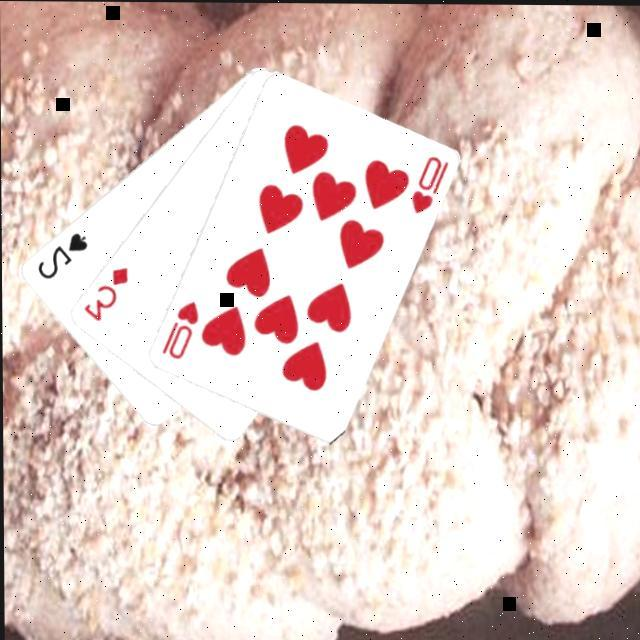10H: (409, 152, 453, 218), (158, 298, 202, 362)
2S: (34, 230, 92, 284)
3D: (80, 264, 132, 325)
